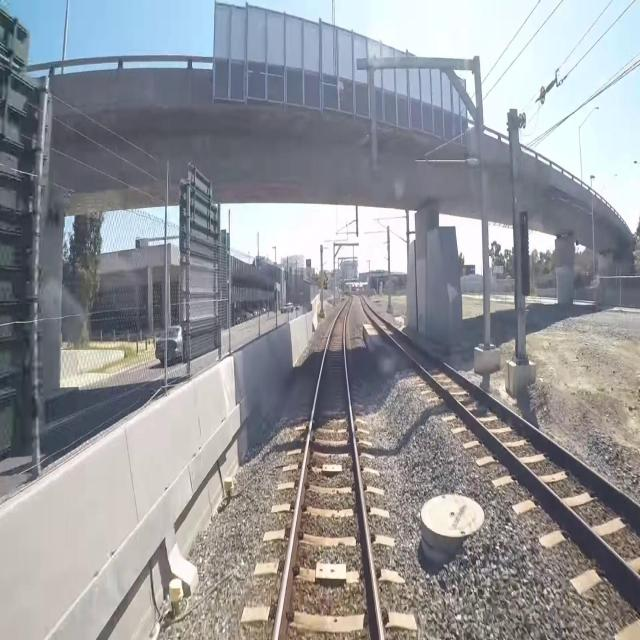rail-track: (361, 297, 640, 573), (277, 297, 378, 639)
